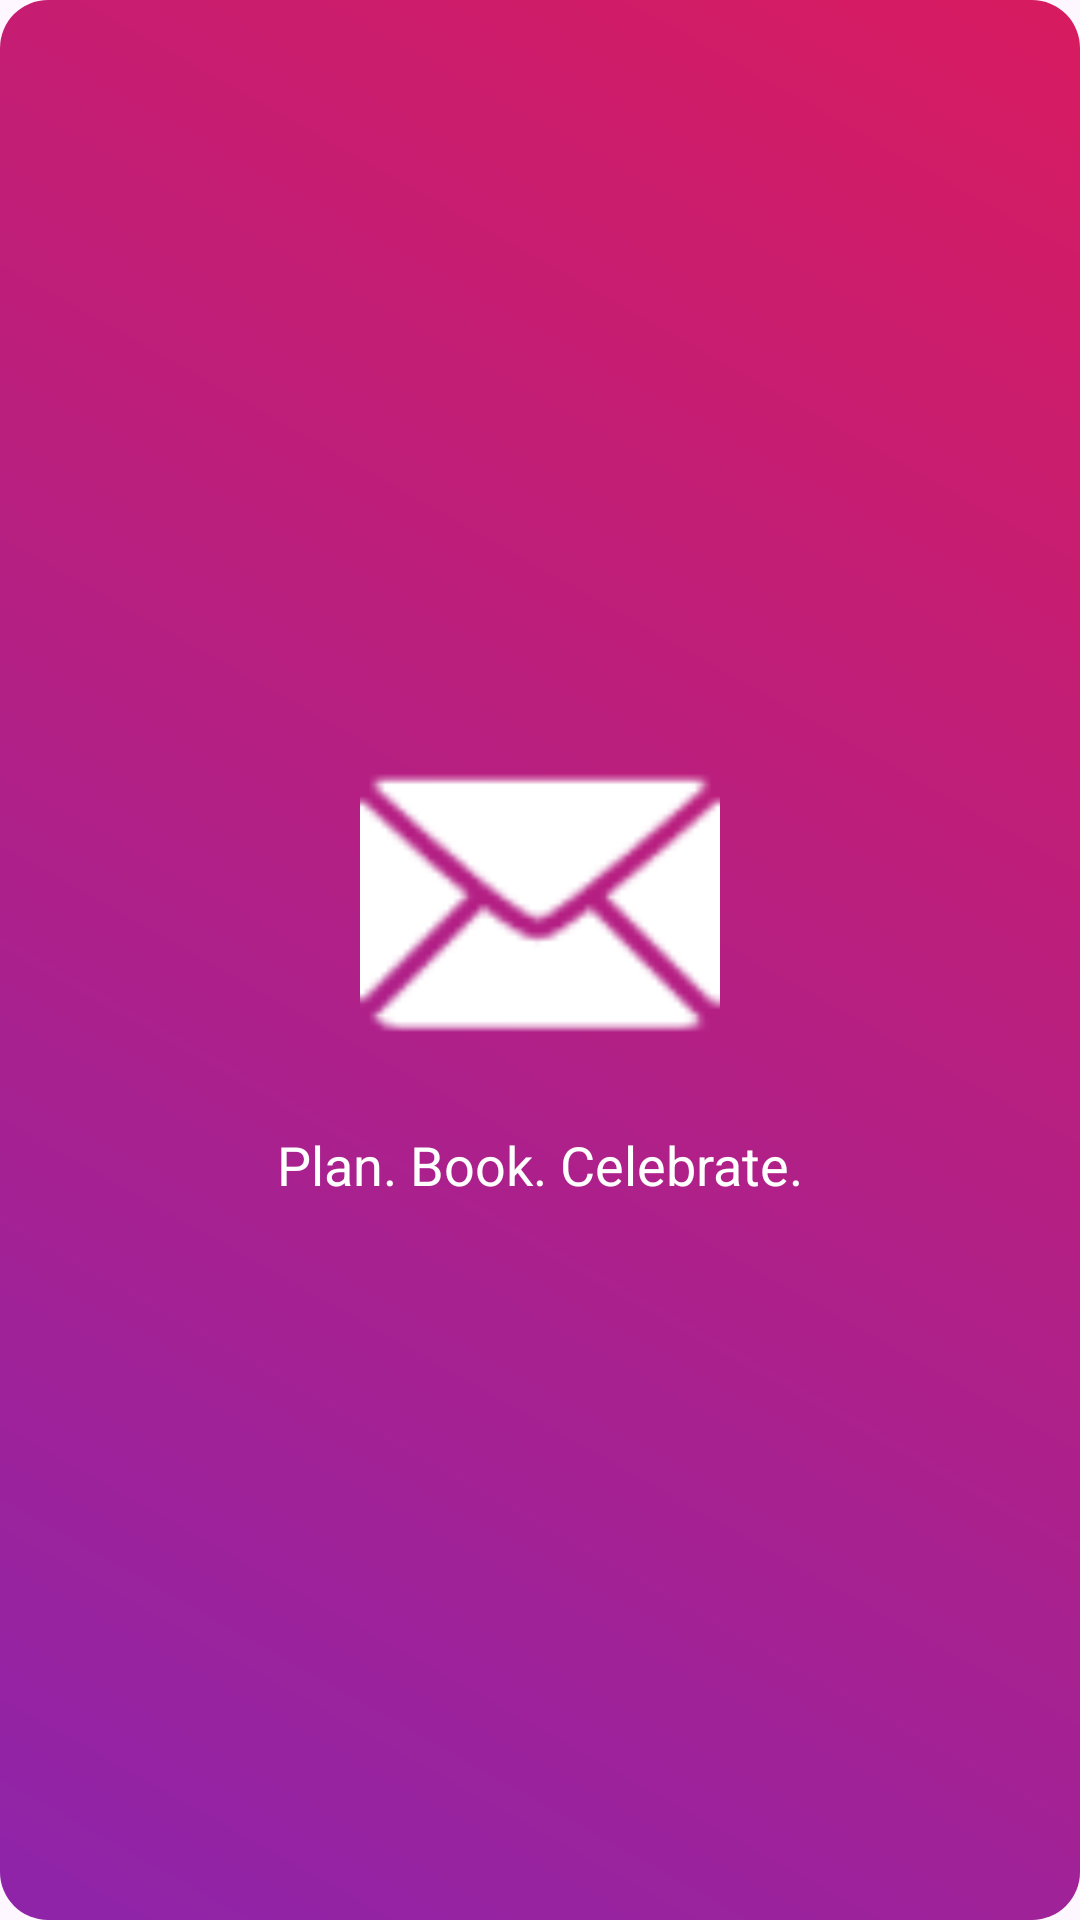

Point at icon controls on the screen. Image size 1080 x 1920, points as (x,y).
email: (540,903)
